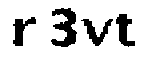3: (50, 6, 78, 49)
r: (12, 16, 37, 49)
t: (115, 13, 139, 50)
v: (81, 16, 115, 48)
